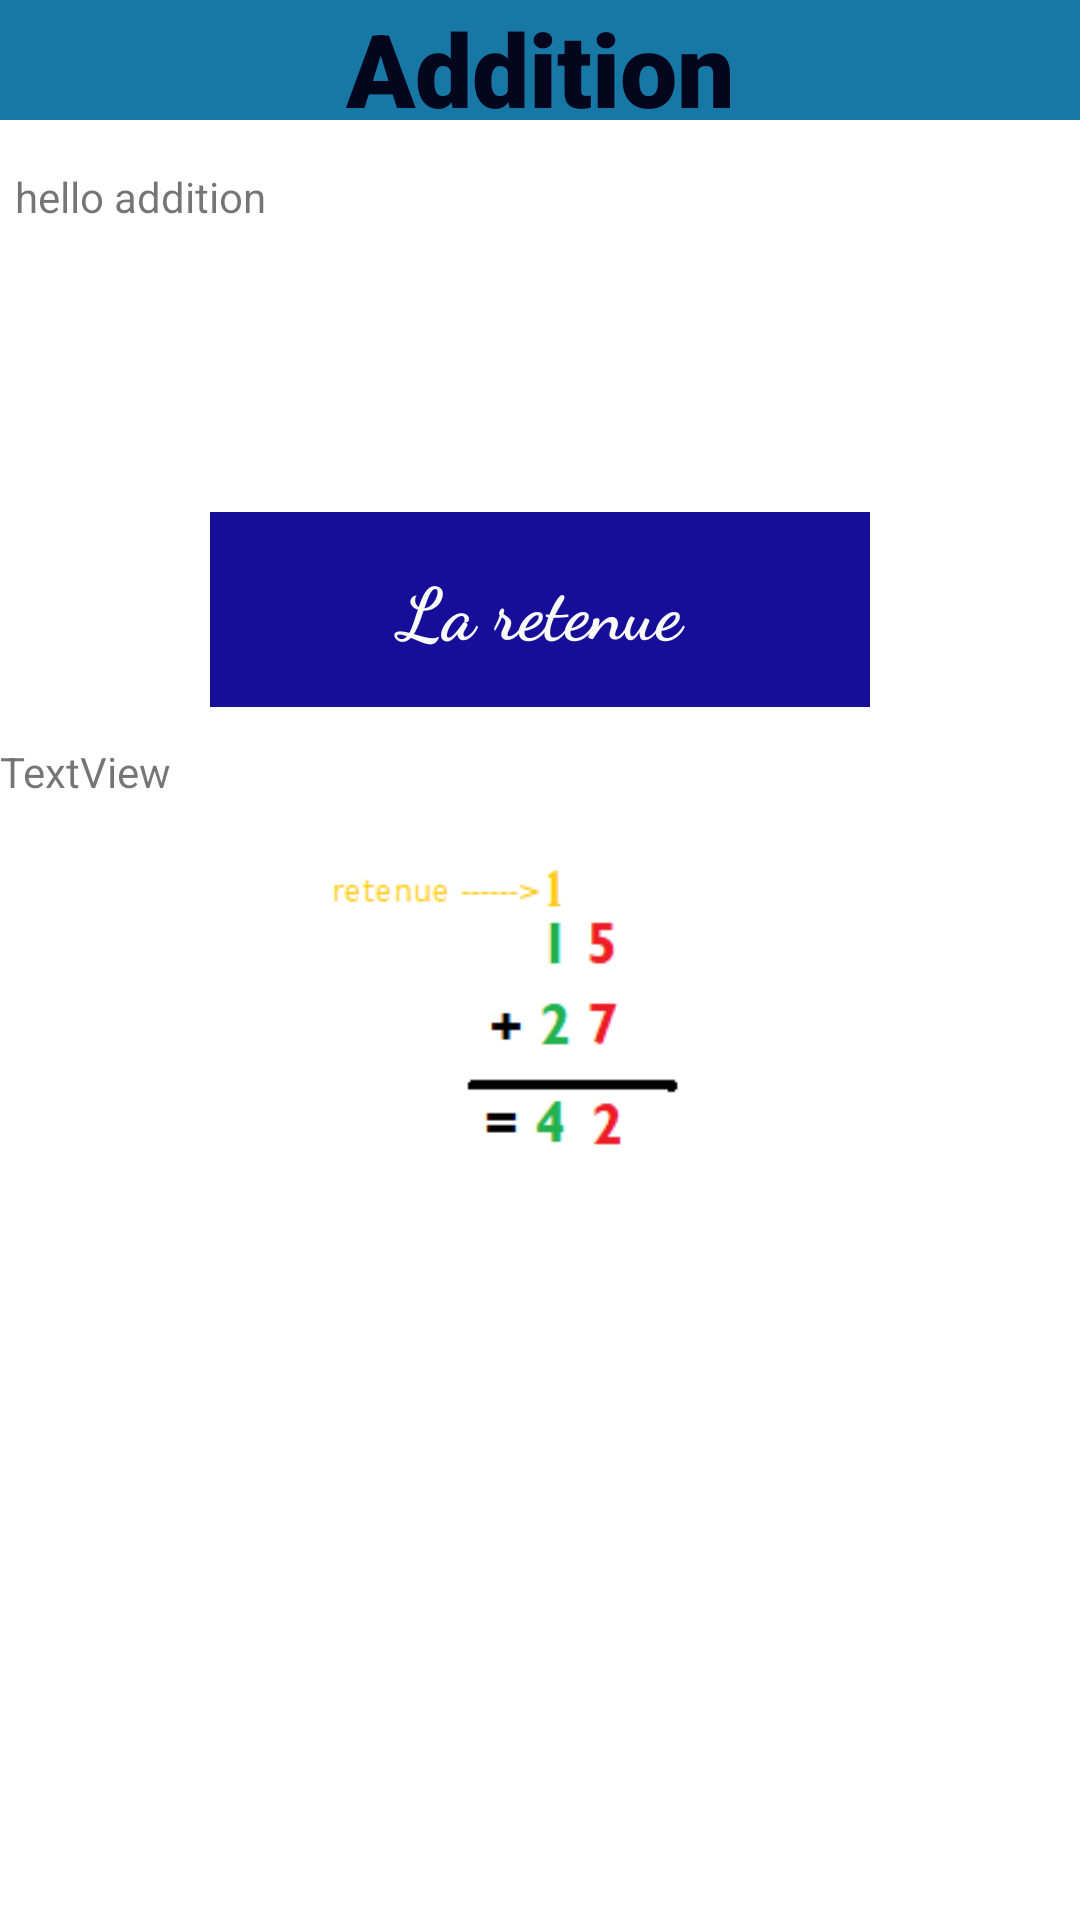

Screen size 1080px x 1920px. Icon name, then its box in pixels as region(x1, y1, x2, y2):
calcul: region(333, 870, 678, 1145)
